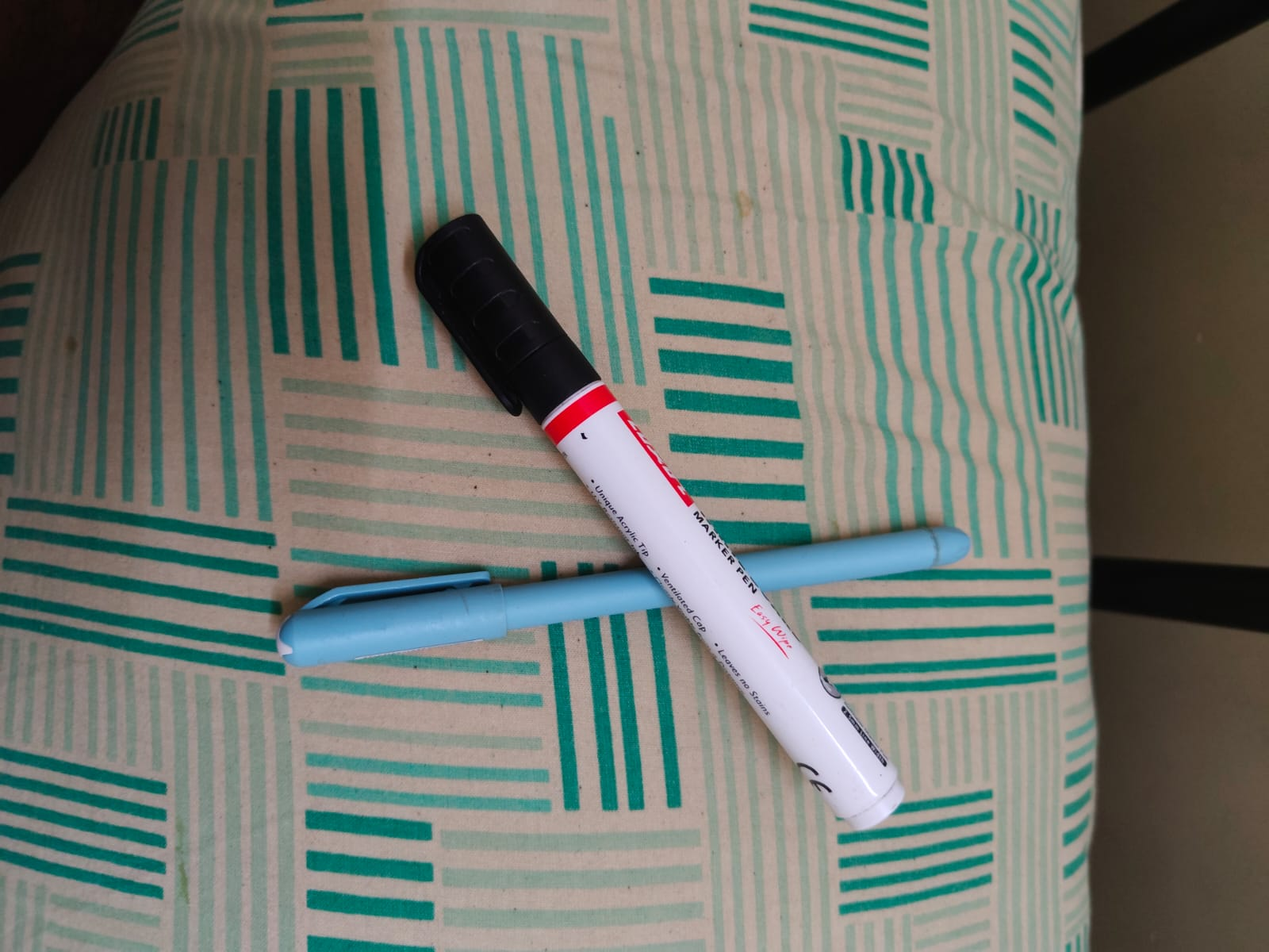case: (397, 195, 915, 856)
pen: (265, 495, 1010, 698)
